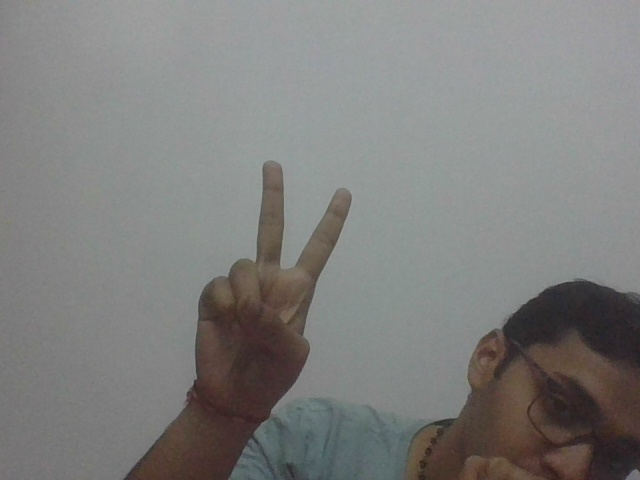V: (193, 150, 356, 409)
